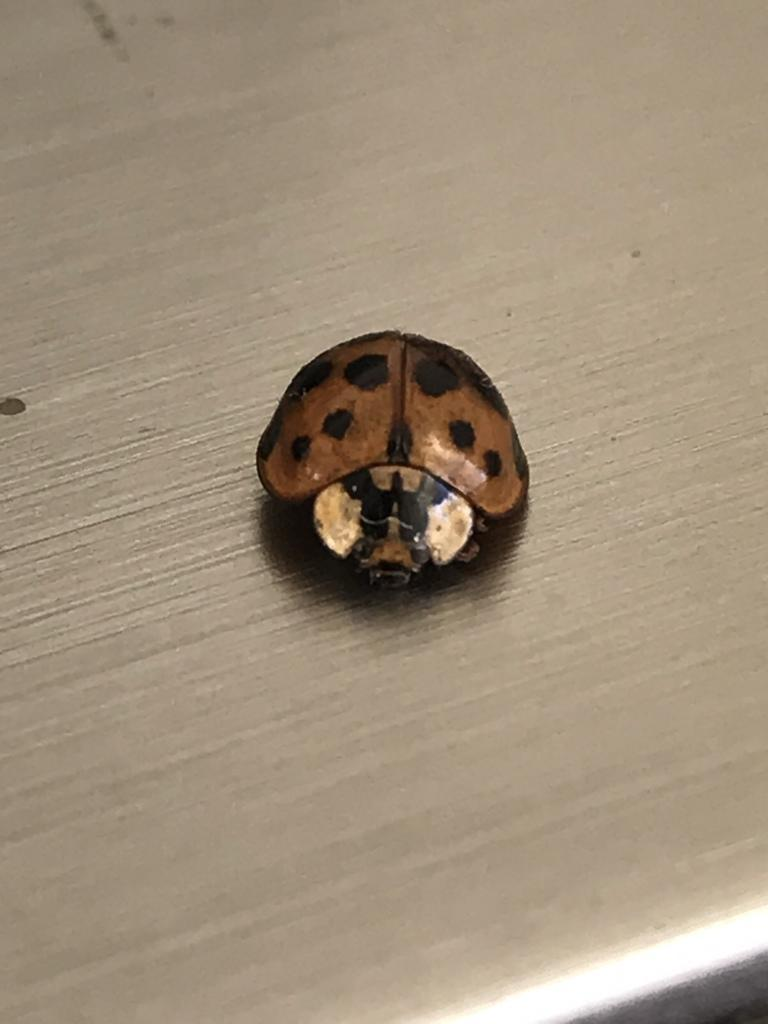ladybug: (254, 326, 534, 599)
